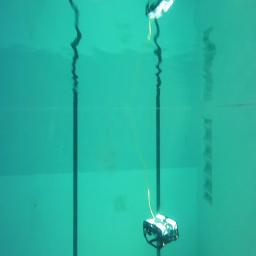front: (143, 213, 180, 248)
